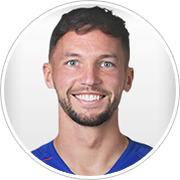face: (40, 35, 137, 123)
